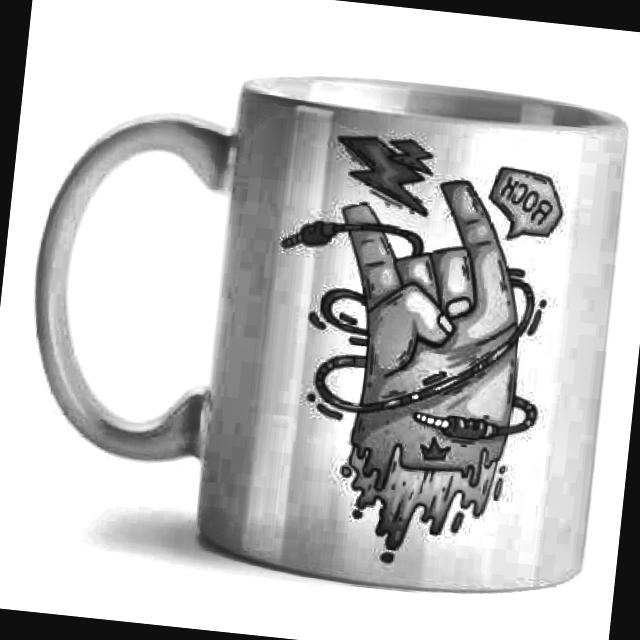Mug: (7, 44, 635, 608)
